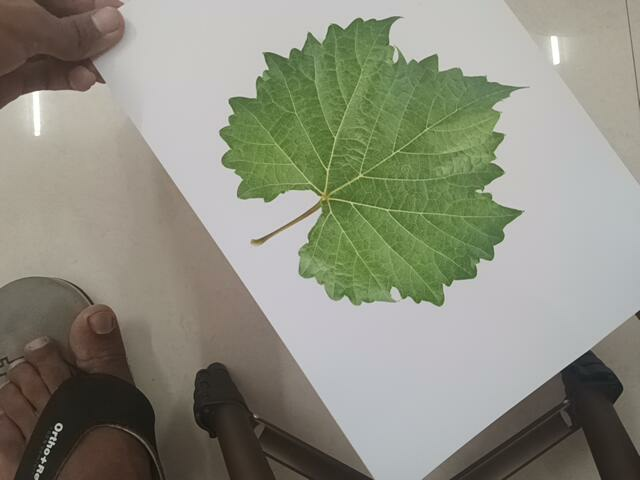Grape_Healthy: (218, 16, 536, 300)
